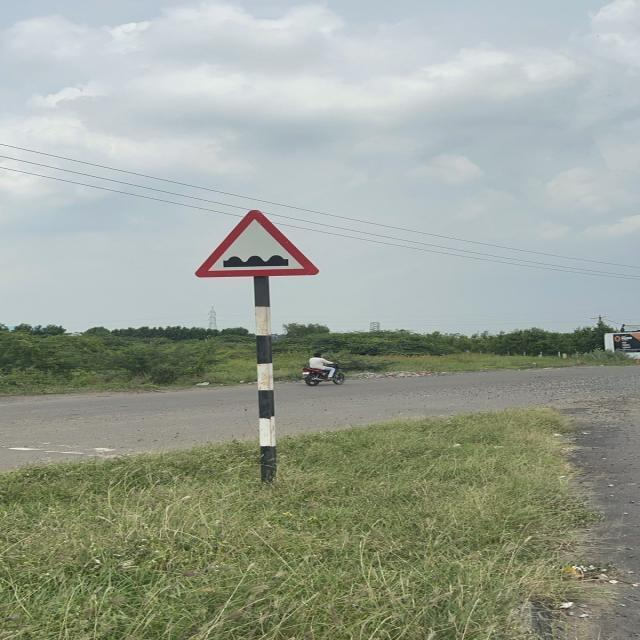hump or rough road: (194, 207, 320, 278)
